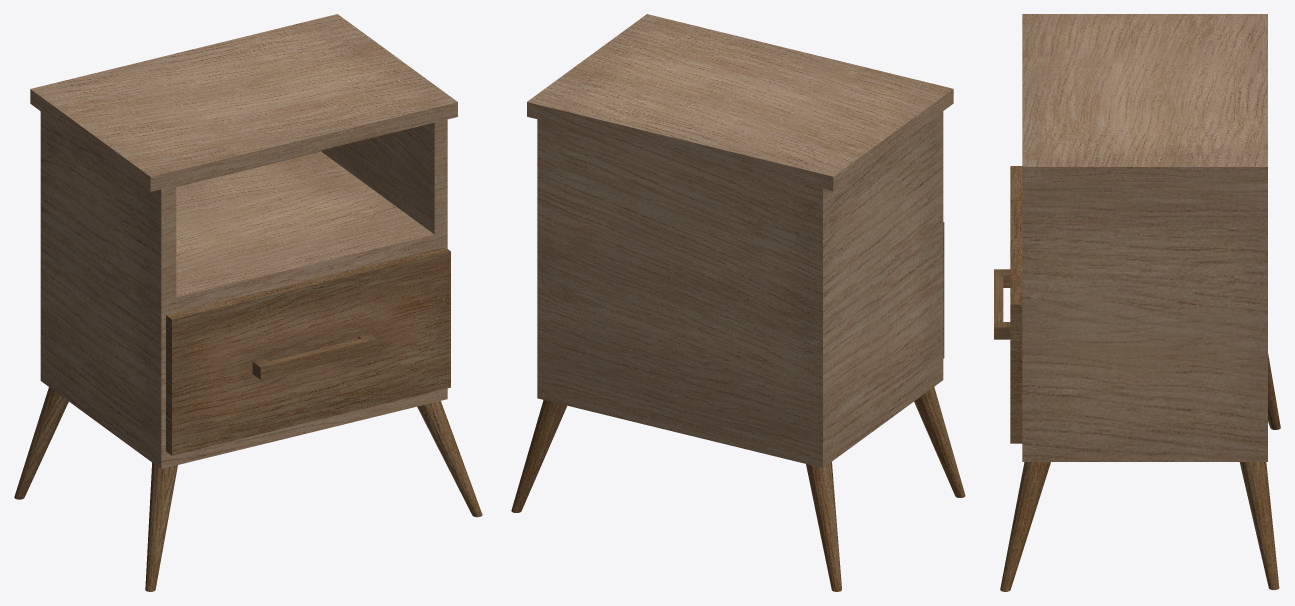
Rendered from Bedside_Table.fbx.
3 views of the same model, side by side, from view 1: azimuth 30°, elevation 25°; view 2: azimuth 150°, elevation 25°; view 3: azimuth 270°, elevation 25° (orthographic). The views are drawn at different scales.
Visible parts, largest first — view 1: Bedside_Table_1, Bedside_Table_2; view 2: Bedside_Table_1; view 3: Bedside_Table_1, Bedside_Table_2.
Boxes of the visible parts, x1,y1,x2,y2 form: Bedside_Table_1: (14,14,482,591); Bedside_Table_2: (166,247,450,455); Bedside_Table_1: (511,14,965,591); Bedside_Table_1: (1000,14,1280,591); Bedside_Table_2: (994,166,1022,443).
Bounding box in the file's own units: 246 × 288 × 179.
